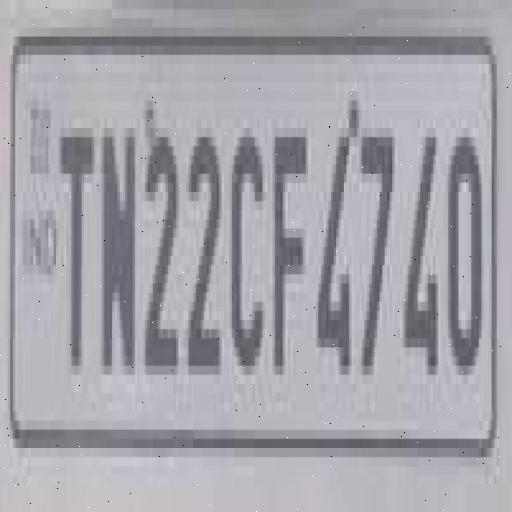number plate: (0, 18, 492, 457)
